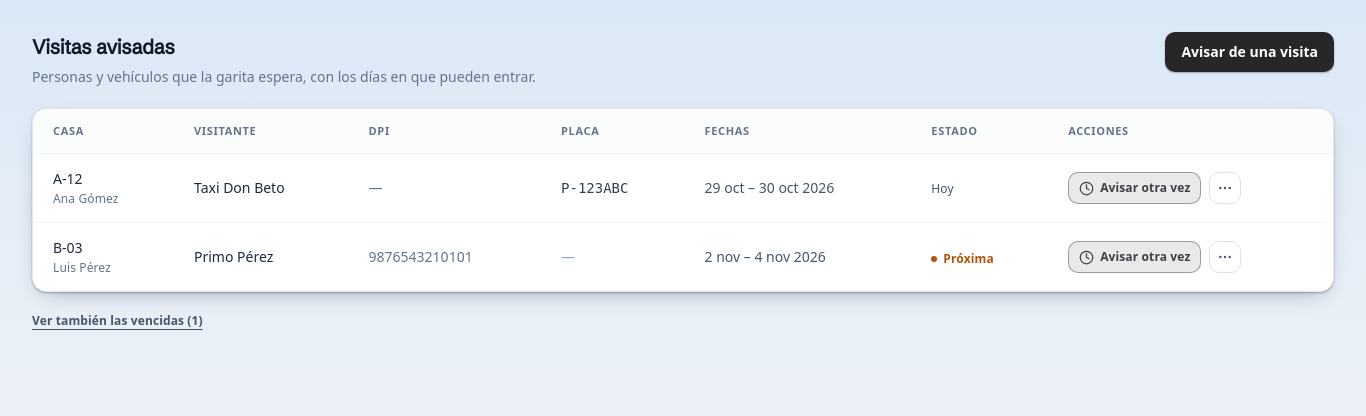
Test: PreautPage — visitas avisadas › las vencidas se piden aparte
Expected: the text "Taxi Don Beto" is shown, [194,178,285,197]
Click the button "Ver también las vencidas (1)" at (117, 321), box [32,312,203,330]
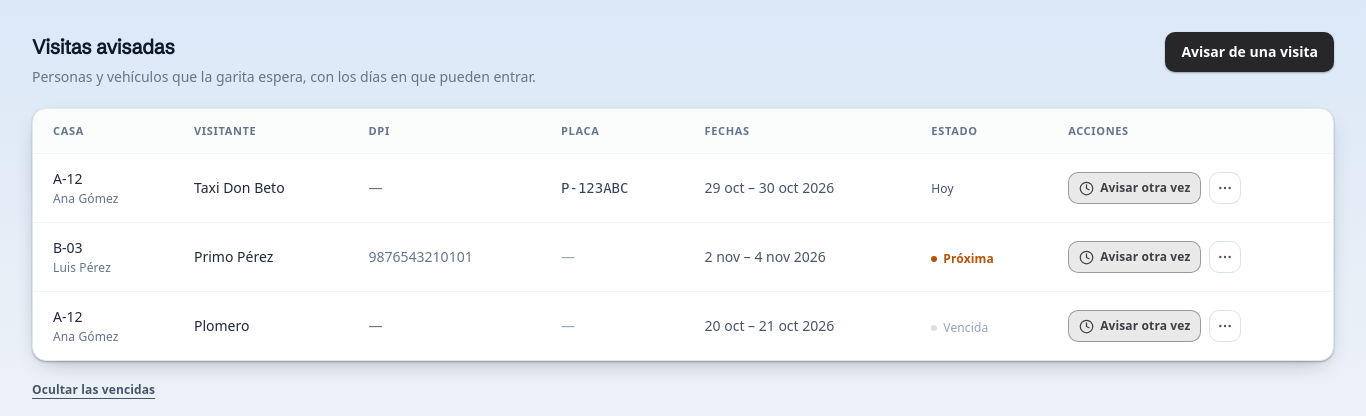
Expected: the text "Plomero" is shown, [194,316,250,335]
Expected: the text "Vencida" is shown, [931,319,988,337]
Click the button "Ocultar las vencidas" at (94, 390), box [32,381,155,399]
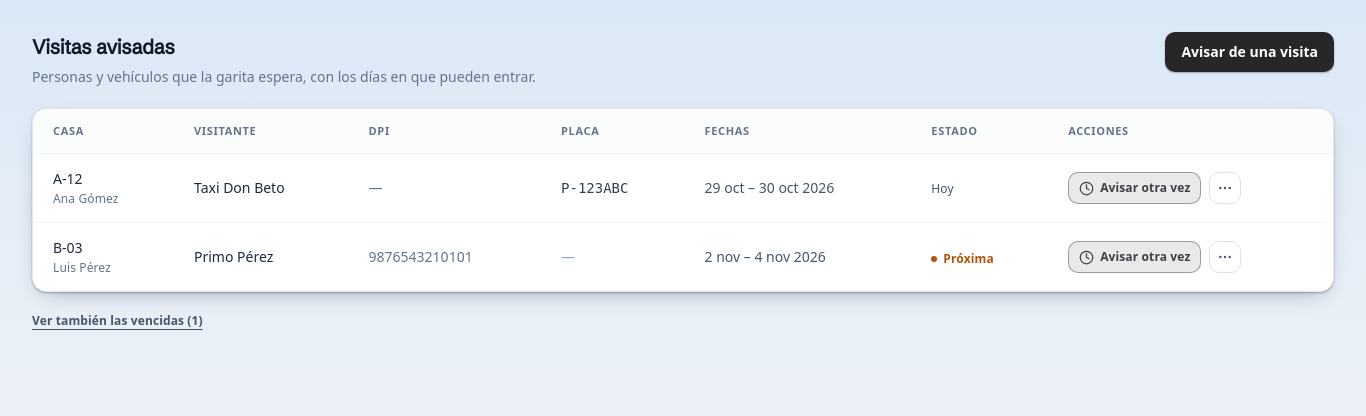
Expected: the text "Plomero" is gone
